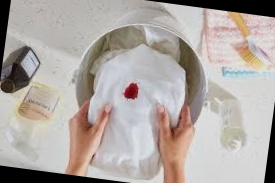blood: (122, 82, 141, 102)
